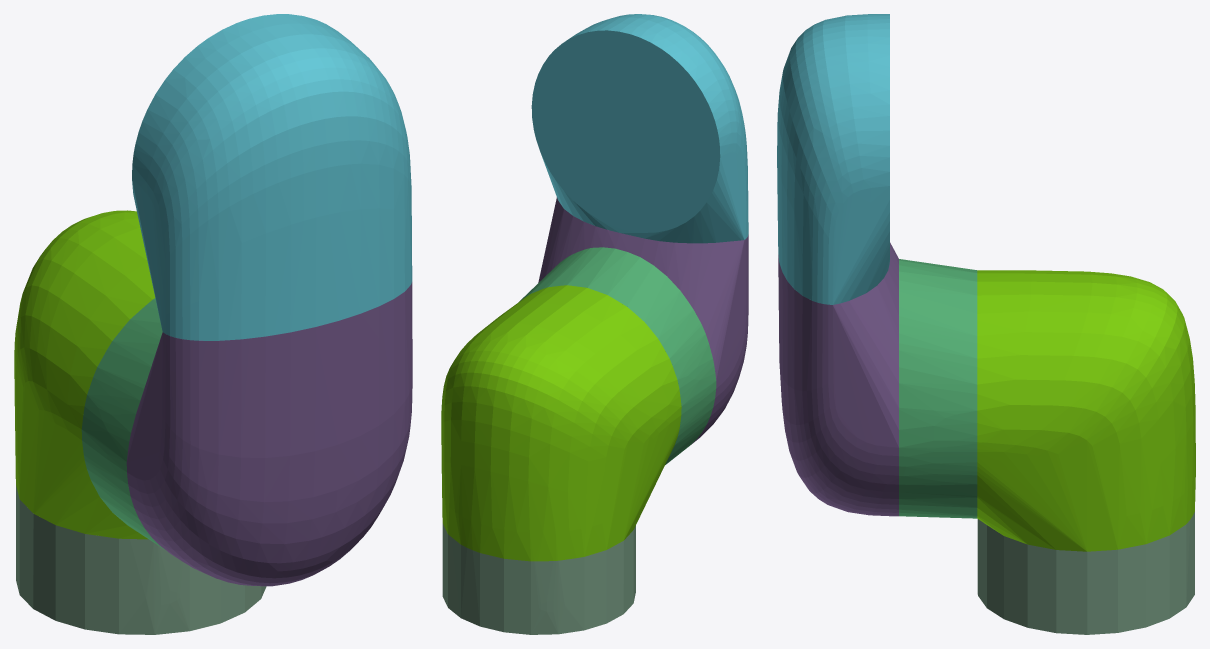
The picture shows the model from 3 angles, left to right: view 1: azimuth 30°, elevation 25°; view 2: azimuth 150°, elevation 25°; view 3: azimuth 270°, elevation 25°; orthographic projection. The views are drawn at different scales.
Visible parts, largest first — view 1: geometry_2, geometry_1, geometry_4, geometry_0, geometry_3; view 2: geometry_4, geometry_2, geometry_0, geometry_1, geometry_3; view 3: geometry_4, geometry_2, geometry_1, geometry_3, geometry_0.
Part boxes in pixels (x1,y1,x2,y2): geometry_2: (132,14,412,340); geometry_1: (126,282,412,586); geometry_4: (14,210,155,539); geometry_0: (16,485,266,634); geometry_3: (81,298,166,550); geometry_4: (441,285,681,561); geometry_2: (531,14,748,243); geometry_0: (442,523,635,634); geometry_1: (538,197,748,444); geometry_3: (519,247,716,464); geometry_4: (977,270,1195,551); geometry_2: (777,14,889,304); geometry_1: (778,242,898,516); geometry_3: (899,259,977,518); geometry_0: (977,512,1194,634).
Size of the model in its own units: 0.095 by 0.2391 by 0.1613.
